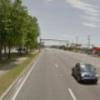cars: (72, 63, 99, 83)
